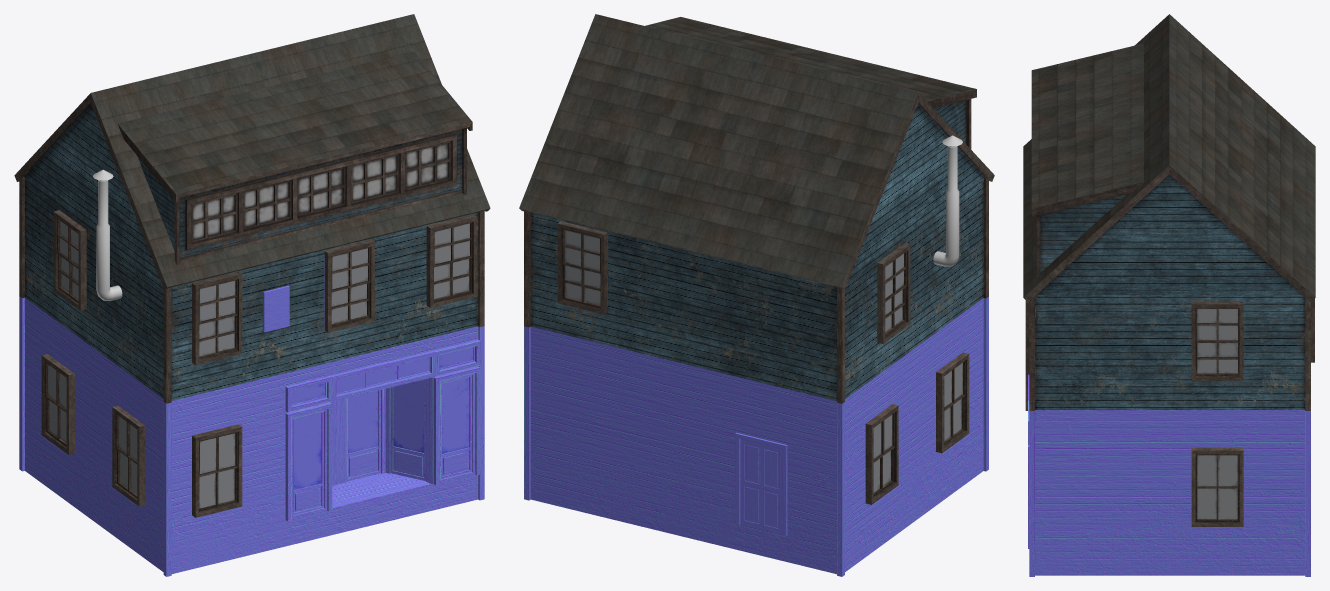
Rendered from RoofTop_Background2.fbx.
3 renders of one model, left to right at view 1: azimuth 30°, elevation 25°; view 2: azimuth 150°, elevation 25°; view 3: azimuth 270°, elevation 25°, orthographic. The views are drawn at different scales.
Visible parts, largest first — view 1: t_002_b001_1_1, t_002_br_opt_01, t_002_b002_1_1, t_002_br001_1, window_002_3_1, window_001_1, window_002_2_1, window_002_1_1, window_002_2, window_001_2, window_001_3, chimney_1_1 (+1 smaller); view 2: t_002_br001_1, t_002_b001_1_1, t_002_b002_1_1, t_002_br_opt_01, t002_door001, window_002_3, window_001_3, window_001_2, window_002_2, chimney_1_1; view 3: t_002_br001_1, t_002_b001_1_1, t_002_b002_1_1, t_002_br_opt_01, window_002_1, window_001_4.
Part boxes in pixels (bbox=[...]): t_002_b001_1_1: bbox=[19, 258, 484, 576]; t_002_br_opt_01: bbox=[117, 51, 472, 264]; t_002_b002_1_1: bbox=[19, 177, 484, 403]; t_002_br001_1: bbox=[14, 14, 490, 289]; window_002_3_1: bbox=[426, 214, 477, 307]; window_001_1: bbox=[192, 424, 242, 517]; window_002_2_1: bbox=[324, 239, 374, 332]; window_002_1_1: bbox=[192, 271, 242, 365]; window_002_2: bbox=[53, 210, 86, 310]; window_001_2: bbox=[112, 405, 145, 506]; window_001_3: bbox=[41, 354, 74, 454]; chimney_1_1: bbox=[92, 169, 122, 300]; t_002_br001_1: bbox=[519, 14, 994, 289]; t_002_b001_1_1: bbox=[524, 297, 988, 576]; t_002_b002_1_1: bbox=[524, 177, 988, 403]; t_002_br_opt_01: bbox=[645, 17, 976, 149]; t002_door001: bbox=[735, 432, 787, 536]; window_002_3: bbox=[557, 221, 607, 314]; window_001_3: bbox=[865, 404, 898, 504]; window_001_2: bbox=[936, 352, 969, 453]; window_002_2: bbox=[877, 243, 910, 343]; chimney_1_1: bbox=[933, 135, 962, 266]; t_002_br001_1: bbox=[1023, 14, 1315, 301]; t_002_b001_1_1: bbox=[1028, 374, 1310, 576]; t_002_b002_1_1: bbox=[1029, 295, 1310, 410]; t_002_br_opt_01: bbox=[1031, 43, 1143, 277]; window_002_1: bbox=[1191, 301, 1243, 380]; window_001_4: bbox=[1191, 447, 1243, 526].
Size of the model in its own units: 1068 by 1278 by 821.
